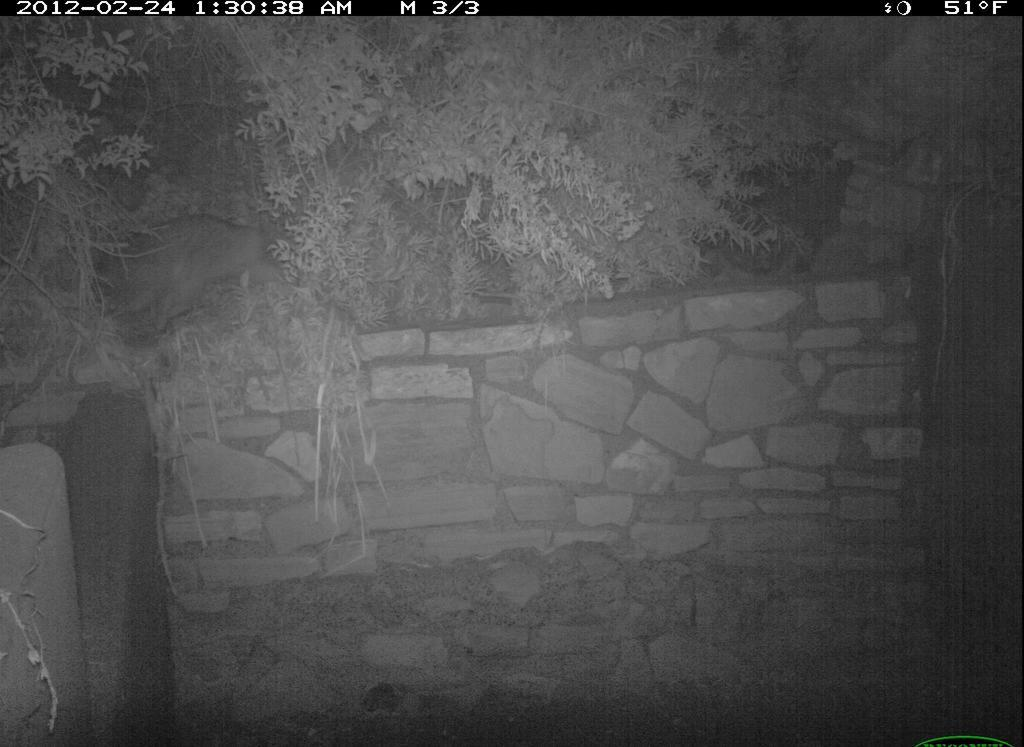raccoon: (85, 207, 293, 341)
